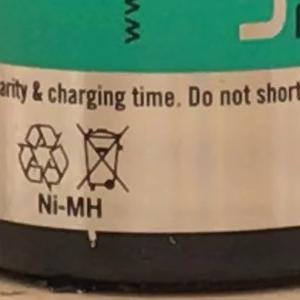keyword: (29, 187, 112, 224)
